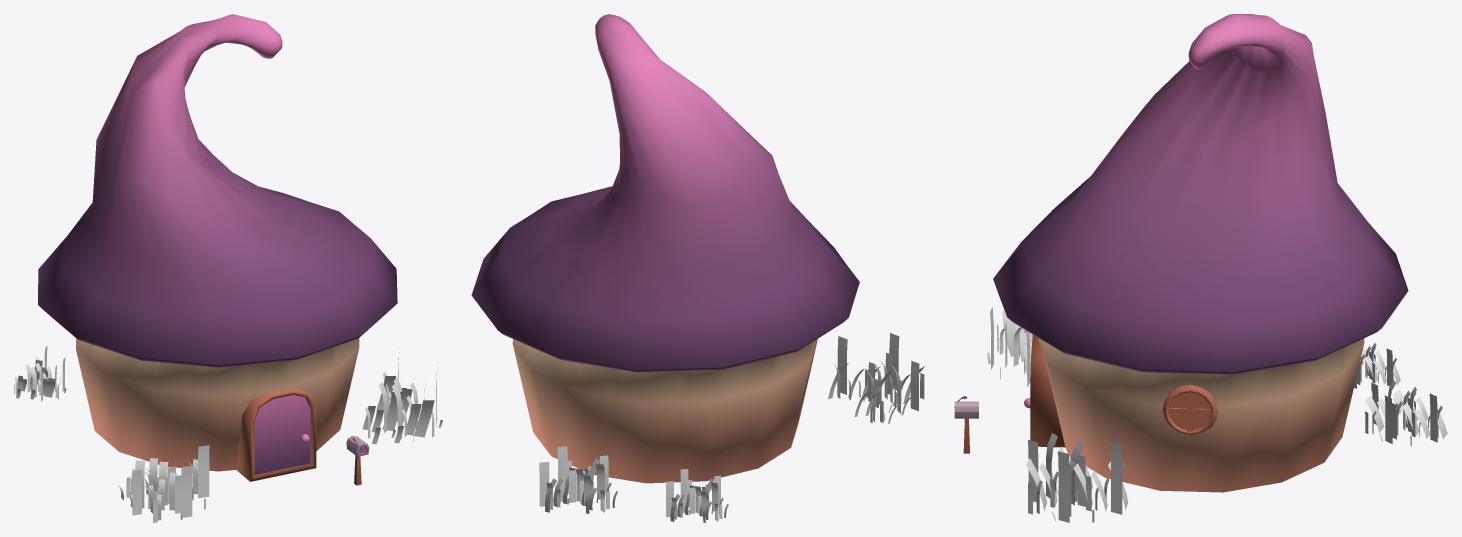
Rendered from house_Purple.fbx.
3 renders of one model, left to right at view 1: azimuth 30°, elevation 25°; view 2: azimuth 150°, elevation 25°; view 3: azimuth 270°, elevation 25°, orthographic. The views are drawn at different scales.
Parts seen in each view (by area): view 1: house_purple; view 2: house_purple; view 3: house_purple.
Boxes of the visible parts, x1,y1,x2,y2 form: house_purple: (14,14,442,522); house_purple: (471,14,924,522); house_purple: (954,14,1447,522).
Bounding box in the file's own units: 1655 × 1892 × 1934.
